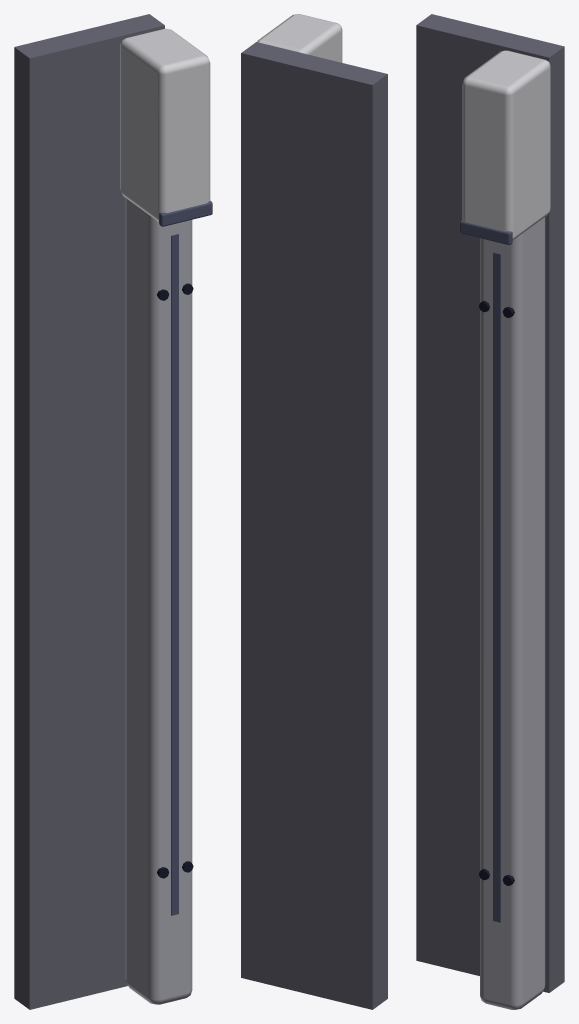
Rendered from int.wallbay.far.15.w0.25.glb.
3 renders of one model, left to right at view 1: azimuth 30°, elevation 25°; view 2: azimuth 150°, elevation 25°; view 3: azimuth 330°, elevation 25°, orthographic. The views are drawn at different scales.
Visible parts, largest first — view 1: int.wallbay.far.15.w0.25; view 2: int.wallbay.far.15.w0.25; view 3: int.wallbay.far.15.w0.25.
Part boxes in pixels (x1=…): int.wallbay.far.15.w0.25: x1=14, y1=14, x2=212, y2=1009; int.wallbay.far.15.w0.25: x1=241, y1=14, x2=387, y2=1009; int.wallbay.far.15.w0.25: x1=416, y1=14, x2=564, y2=1009.
Bounding box in the file's own units: 0.258 × 1.68 × 0.192.
